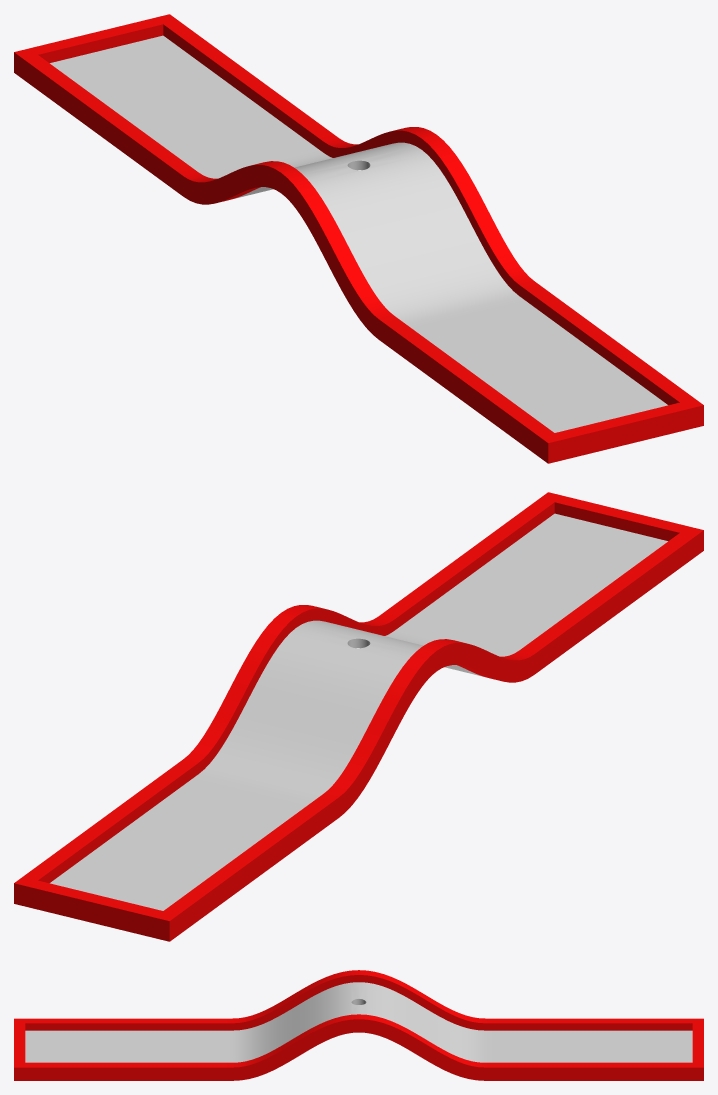
The model's file is BahnM5.fbx.
3 renders of one model, top to bottom at view 1: azimuth 30°, elevation 25°; view 2: azimuth 150°, elevation 25°; view 3: azimuth 270°, elevation 25°, orthographic. The views are drawn at different scales.
Visible parts, largest first — view 1: Track5; view 2: Track5; view 3: Track5.
Boxes of the visible parts, box(x1,y1,x2,y2) form: Track5: box(14, 14, 703, 463); Track5: box(14, 492, 703, 941); Track5: box(14, 970, 703, 1080).
Size of the model in its own units: 87 by 51 by 517.
